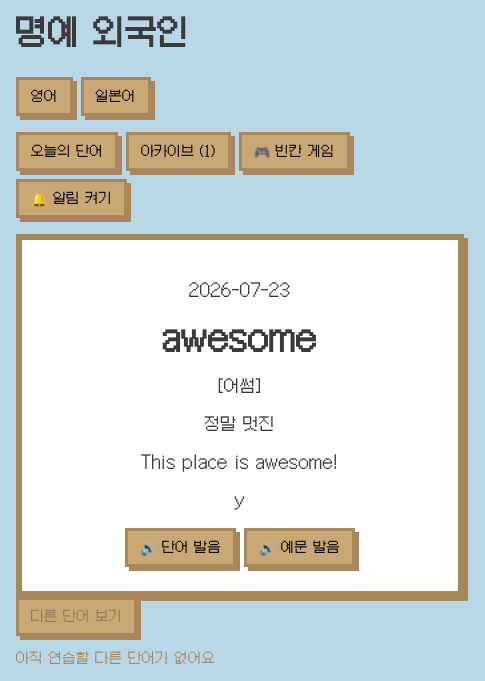
Test: App › switches to the game tab
This screenshot has width=485, height=681.
Expected: the heading "awesome" is shown, [163, 320, 317, 357]
Click the button "🎮 빈칸 게임": (294, 151) [239, 132, 350, 171]
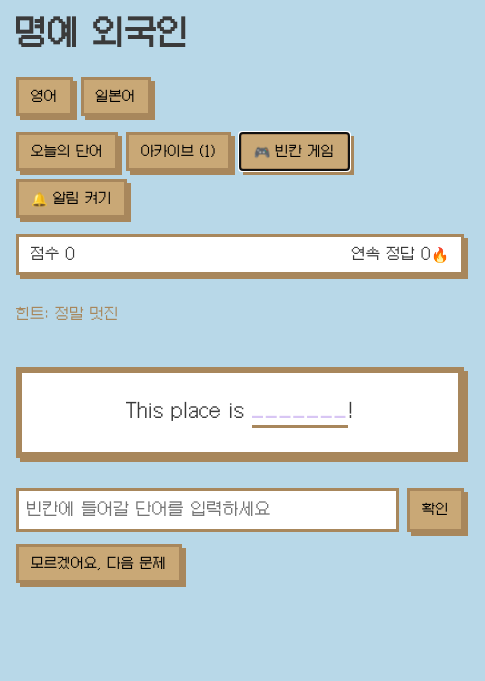
Result: the text "This place is _______ !" is shown at [16, 367, 464, 458]
Result: the text "힌트: 정말 멋진" is shown at [16, 306, 119, 322]
